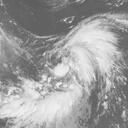cyclone: (41, 40, 95, 100)
